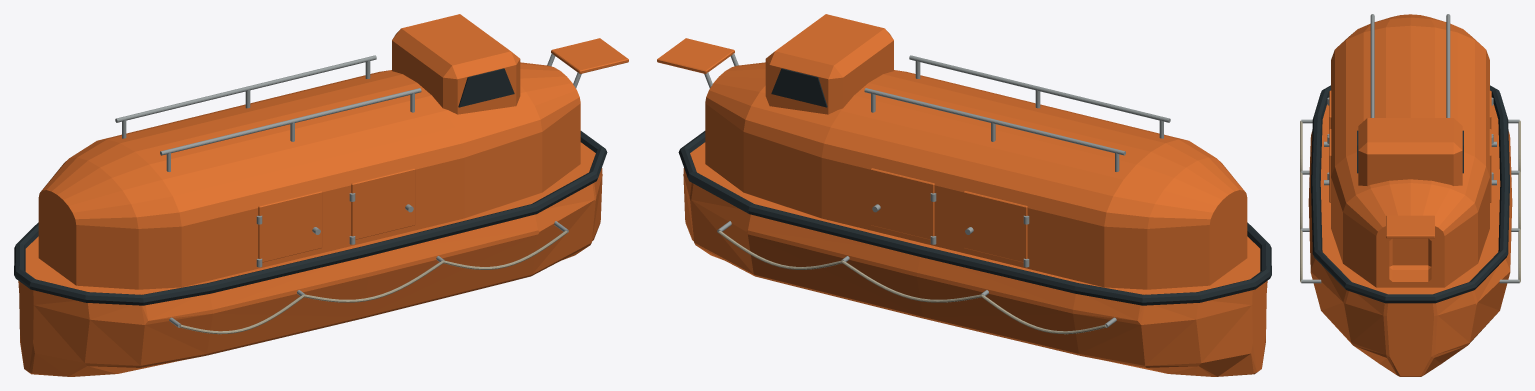
Rendered from full.glb.
The picture shows the model from 3 angles, left to right: view 1: azimuth 30°, elevation 25°; view 2: azimuth 150°, elevation 25°; view 3: azimuth 270°, elevation 25°; orthographic projection. The views are drawn at different scales.
Visible parts, largest first — view 1: Long enclosed hard cabin, Generic closed rigid hull, Continuous dark rubrail, Raised pilothouse, Side door -1 0.35, Side door -1 -0.85, Open end hatch cover, Continuous side grab rope -1, Dark trapezoid window -1, Narrow upper rail -1, Narrow upper rail 1; view 2: Long enclosed hard cabin, Generic closed rigid hull, Continuous dark rubrail, Raised pilothouse, Side door 1 0.35, Side door 1 -0.85, Open end hatch cover, Continuous side grab rope 1, Dark trapezoid window 1, Narrow upper rail -1, Narrow upper rail 1; view 3: Long enclosed hard cabin, Generic closed rigid hull, Raised pilothouse, Continuous dark rubrail, Open end hatch cover, Narrow upper rail -1, Narrow upper rail 1, Continuous side grab rope -1, Continuous side grab rope 1.
Part boxes in pixels (x1,y1,x2,y2): Long enclosed hard cabin: [38, 62, 580, 289]; Generic closed rigid hull: [18, 142, 602, 376]; Continuous dark rubrail: [14, 131, 607, 305]; Raised pilothouse: [392, 14, 520, 114]; Side door -1 0.35: [351, 168, 415, 239]; Side door -1 -0.85: [258, 191, 322, 262]; Open end hatch cover: [551, 38, 628, 73]; Continuous side grab rope -1: [179, 230, 567, 334]; Dark trapezoid window -1: [458, 68, 514, 107]; Narrow upper rail -1: [160, 88, 421, 155]; Narrow upper rail 1: [115, 55, 376, 122]; Long enclosed hard cabin: [705, 62, 1247, 289]; Generic closed rigid hull: [683, 142, 1267, 376]; Continuous dark rubrail: [678, 131, 1271, 305]; Raised pilothouse: [765, 14, 893, 114]; Side door 1 0.35: [870, 168, 934, 239]; Side door 1 -0.85: [963, 191, 1027, 262]; Open end hatch cover: [657, 38, 734, 73]; Continuous side grab rope 1: [718, 230, 1106, 334]; Dark trapezoid window 1: [771, 68, 827, 107]; Narrow upper rail -1: [909, 55, 1170, 122]; Narrow upper rail 1: [864, 88, 1125, 155]; Long enclosed hard cabin: [1331, 14, 1489, 287]; Generic closed rigid hull: [1308, 104, 1512, 376]; Raised pilothouse: [1358, 118, 1462, 185]; Continuous dark rubrail: [1311, 85, 1509, 303]; Open end hatch cover: [1386, 215, 1434, 238]; Narrow upper rail -1: [1370, 14, 1374, 117]; Narrow upper rail 1: [1446, 14, 1450, 117]; Continuous side grab rope -1: [1300, 120, 1302, 282]; Continuous side grab rope 1: [1518, 120, 1520, 282].
Size of the model in its own units: 7.66 by 2.81 by 2.92.
